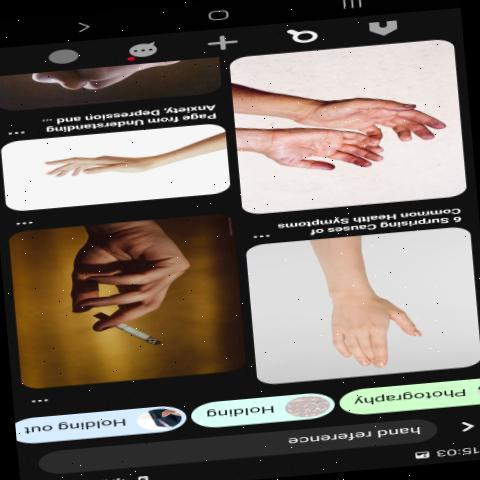Hands: (26, 227, 199, 333), (298, 278, 434, 376), (290, 85, 458, 147), (245, 126, 388, 189), (36, 150, 185, 184)
